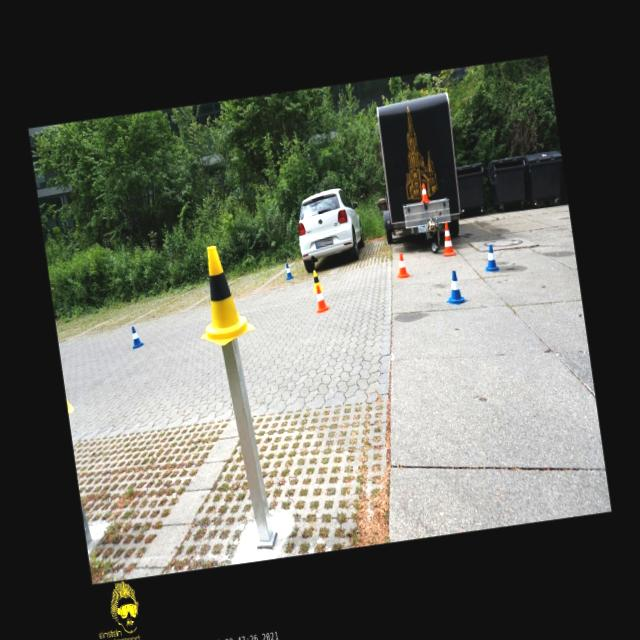blue_cone: (443, 270, 466, 306), (482, 243, 500, 272), (130, 326, 144, 350), (284, 263, 294, 280)
large_orange_cone: (439, 222, 456, 256)
orange_cone: (312, 284, 330, 314), (395, 252, 410, 280), (418, 182, 431, 204)
yellow_cone: (188, 242, 256, 350), (310, 270, 324, 294)
